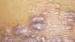plaque psoriasis: (0, 3, 75, 42), (12, 12, 45, 38)
